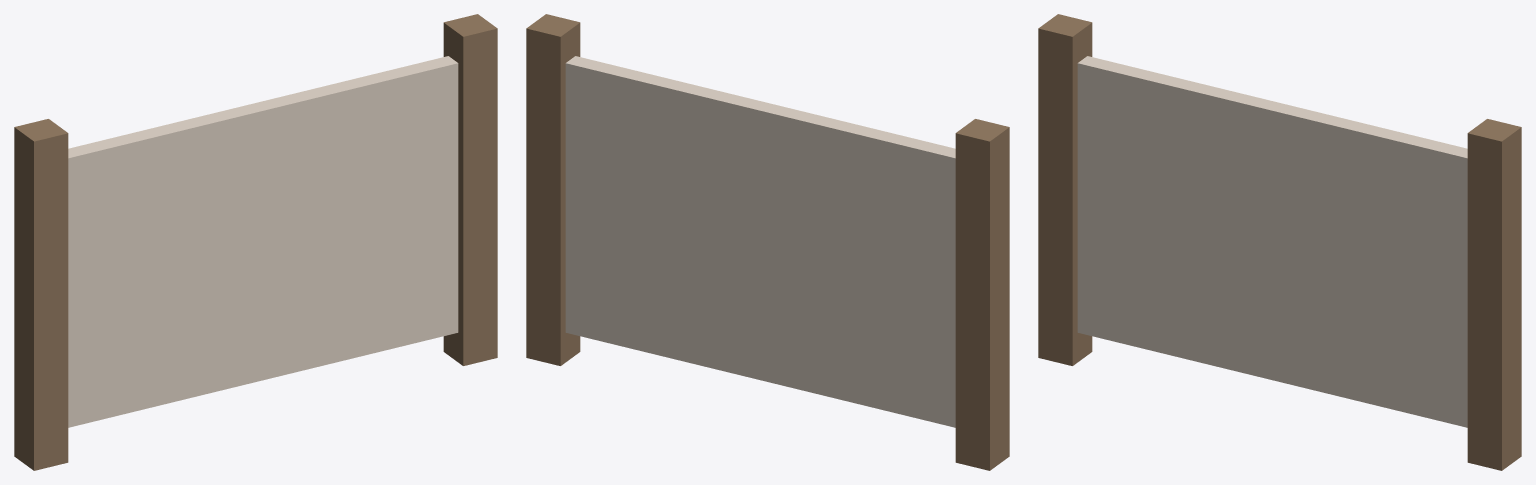
File: Prop_Live_AMF_Gate_V2.glb
3 renders of one model, left to right at view 1: azimuth 30°, elevation 25°; view 2: azimuth 150°, elevation 25°; view 3: azimuth 330°, elevation 25°, orthographic.
Parts seen in each view (by area): view 1: Prop_Live_AMF_Gate_V2; view 2: Prop_Live_AMF_Gate_V2; view 3: Prop_Live_AMF_Gate_V2.
Boxes of the visible parts, x1=… form: Prop_Live_AMF_Gate_V2: x1=14, y1=14, x2=497, y2=470; Prop_Live_AMF_Gate_V2: x1=526, y1=14, x2=1009, y2=470; Prop_Live_AMF_Gate_V2: x1=1038, y1=14, x2=1521, y2=470.
Size of the model in its own units: 1.62 by 1.1 by 0.12.
